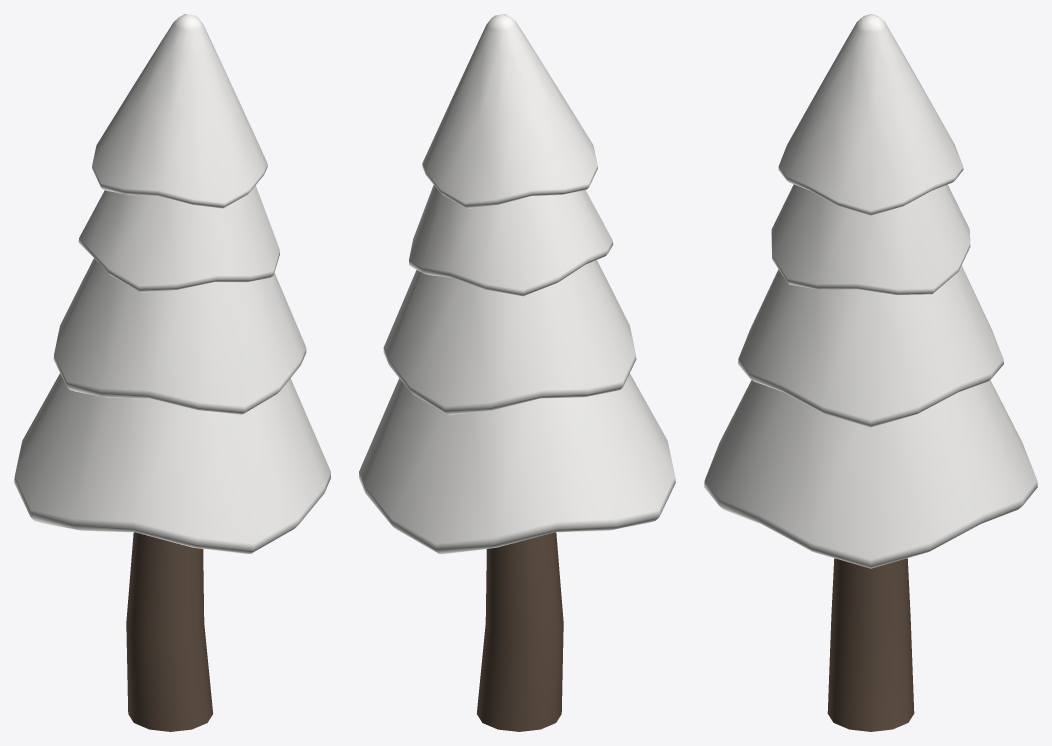
File: Tree_7.glb
3 renders of one model, left to right at view 1: azimuth 30°, elevation 25°; view 2: azimuth 150°, elevation 25°; view 3: azimuth 270°, elevation 25°, orthographic.
Visible parts, largest first — view 1: Tree_7; view 2: Tree_7; view 3: Tree_7.
Part boxes in pixels (x1,y1,x2,y2): Tree_7: [14, 14, 330, 731]; Tree_7: [359, 14, 675, 731]; Tree_7: [704, 14, 1037, 731].
Bounding box in the file's own units: 1.22 × 2.87 × 1.23.
1 material, 1 textured.
